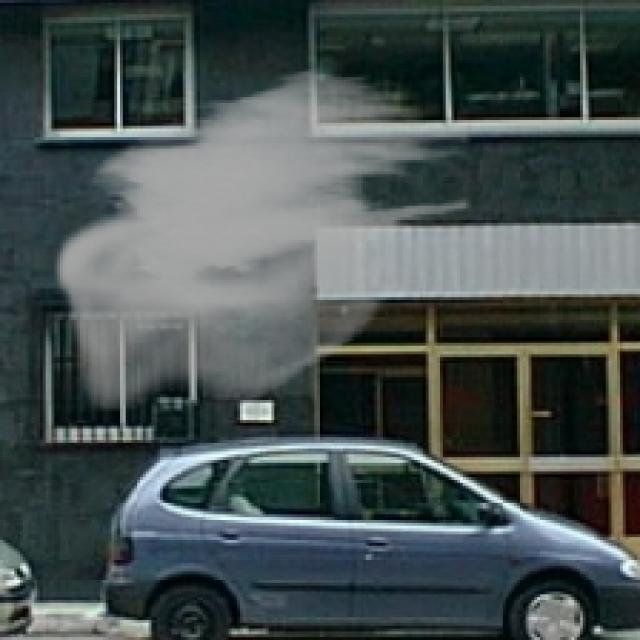Smoke: (54, 66, 472, 412)
